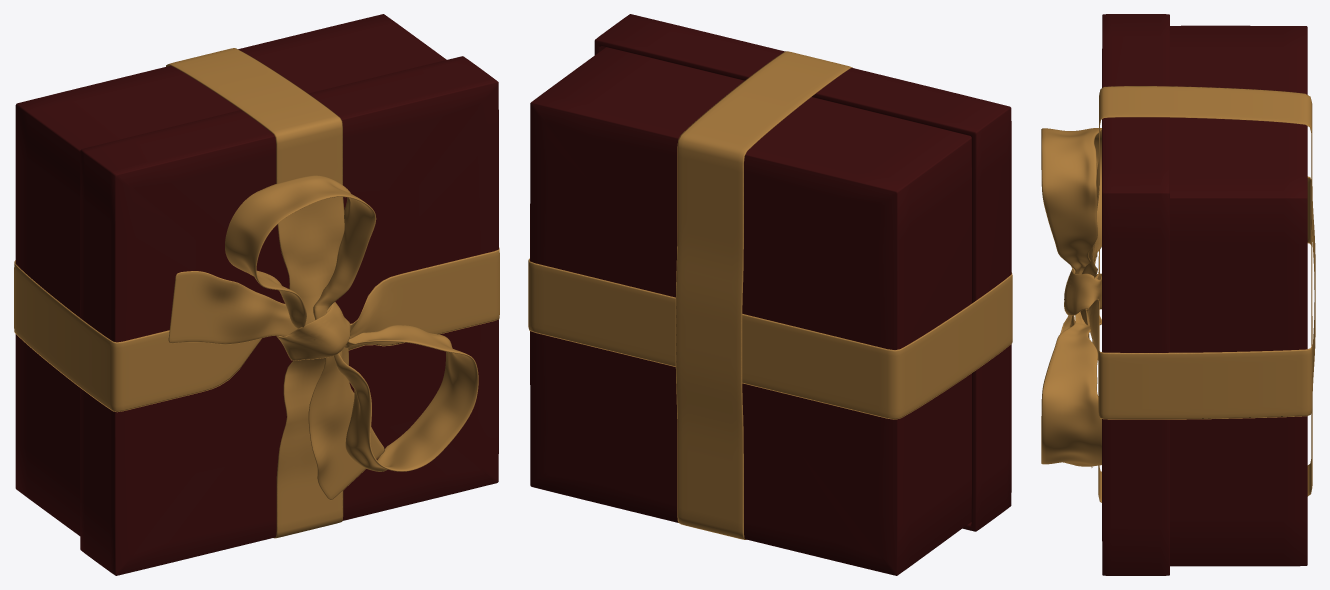
The picture shows the model from 3 angles, left to right: view 1: azimuth 30°, elevation 25°; view 2: azimuth 150°, elevation 25°; view 3: azimuth 270°, elevation 25°; orthographic projection. The views are drawn at different scales.
Parts seen in each view (by area): view 1: gift_box_body_2, gift_box_tape, gift_box_body_1; view 2: gift_box_body_1, gift_box_tape, gift_box_body_2; view 3: gift_box_body_1, gift_box_tape, gift_box_body_2.
Part boxes in pixels (x1,y1,x2,y2): gift_box_body_2: [80, 56, 498, 575]; gift_box_tape: [14, 48, 499, 538]; gift_box_body_1: [15, 14, 446, 535]; gift_box_body_1: [530, 47, 971, 575]; gift_box_tape: [528, 51, 1012, 539]; gift_box_body_2: [594, 14, 1011, 531]; gift_box_body_1: [1170, 25, 1307, 566]; gift_box_tape: [1041, 86, 1315, 502]; gift_box_body_2: [1102, 14, 1169, 575].
Bounding box in the file's own units: 20.42 × 20.42 × 13.06.
